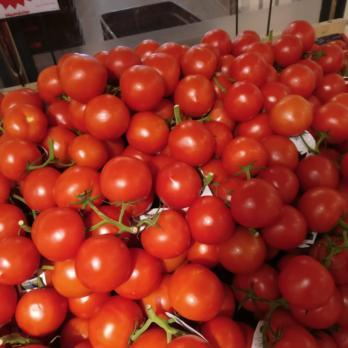Tomato: (0, 91, 348, 348), (39, 25, 348, 112)
